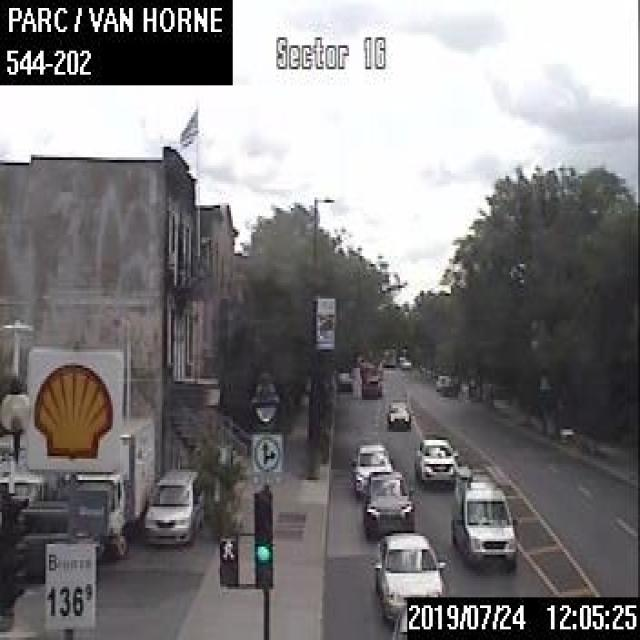vehicle: (72, 413, 153, 555), (450, 462, 516, 566), (372, 530, 446, 618), (142, 466, 202, 546), (361, 469, 413, 529), (350, 442, 392, 497), (413, 436, 458, 482), (358, 360, 381, 397), (386, 398, 409, 428), (390, 604, 406, 637), (336, 370, 354, 389), (435, 373, 449, 388)
